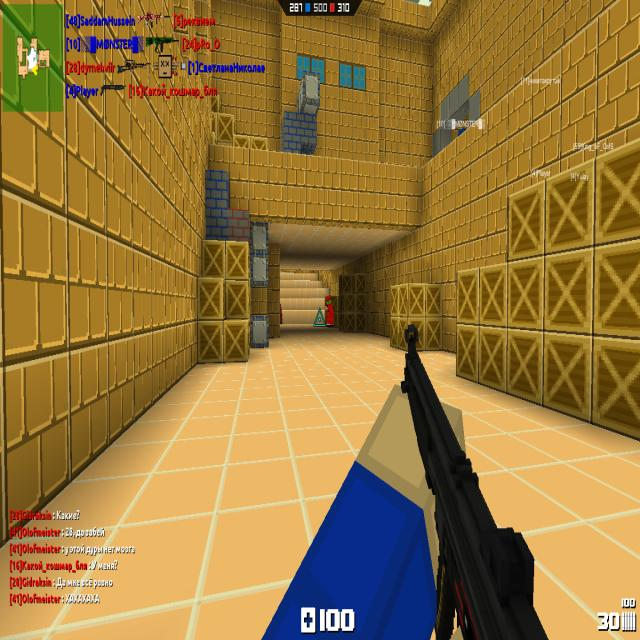enemy: (324, 294, 334, 328), (280, 302, 283, 324)
